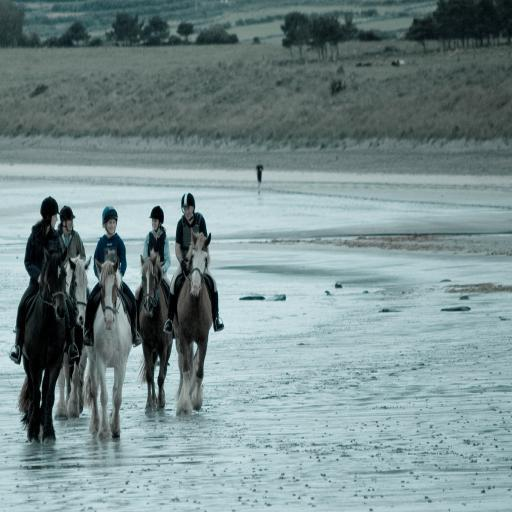horse: (14, 227, 216, 443)
